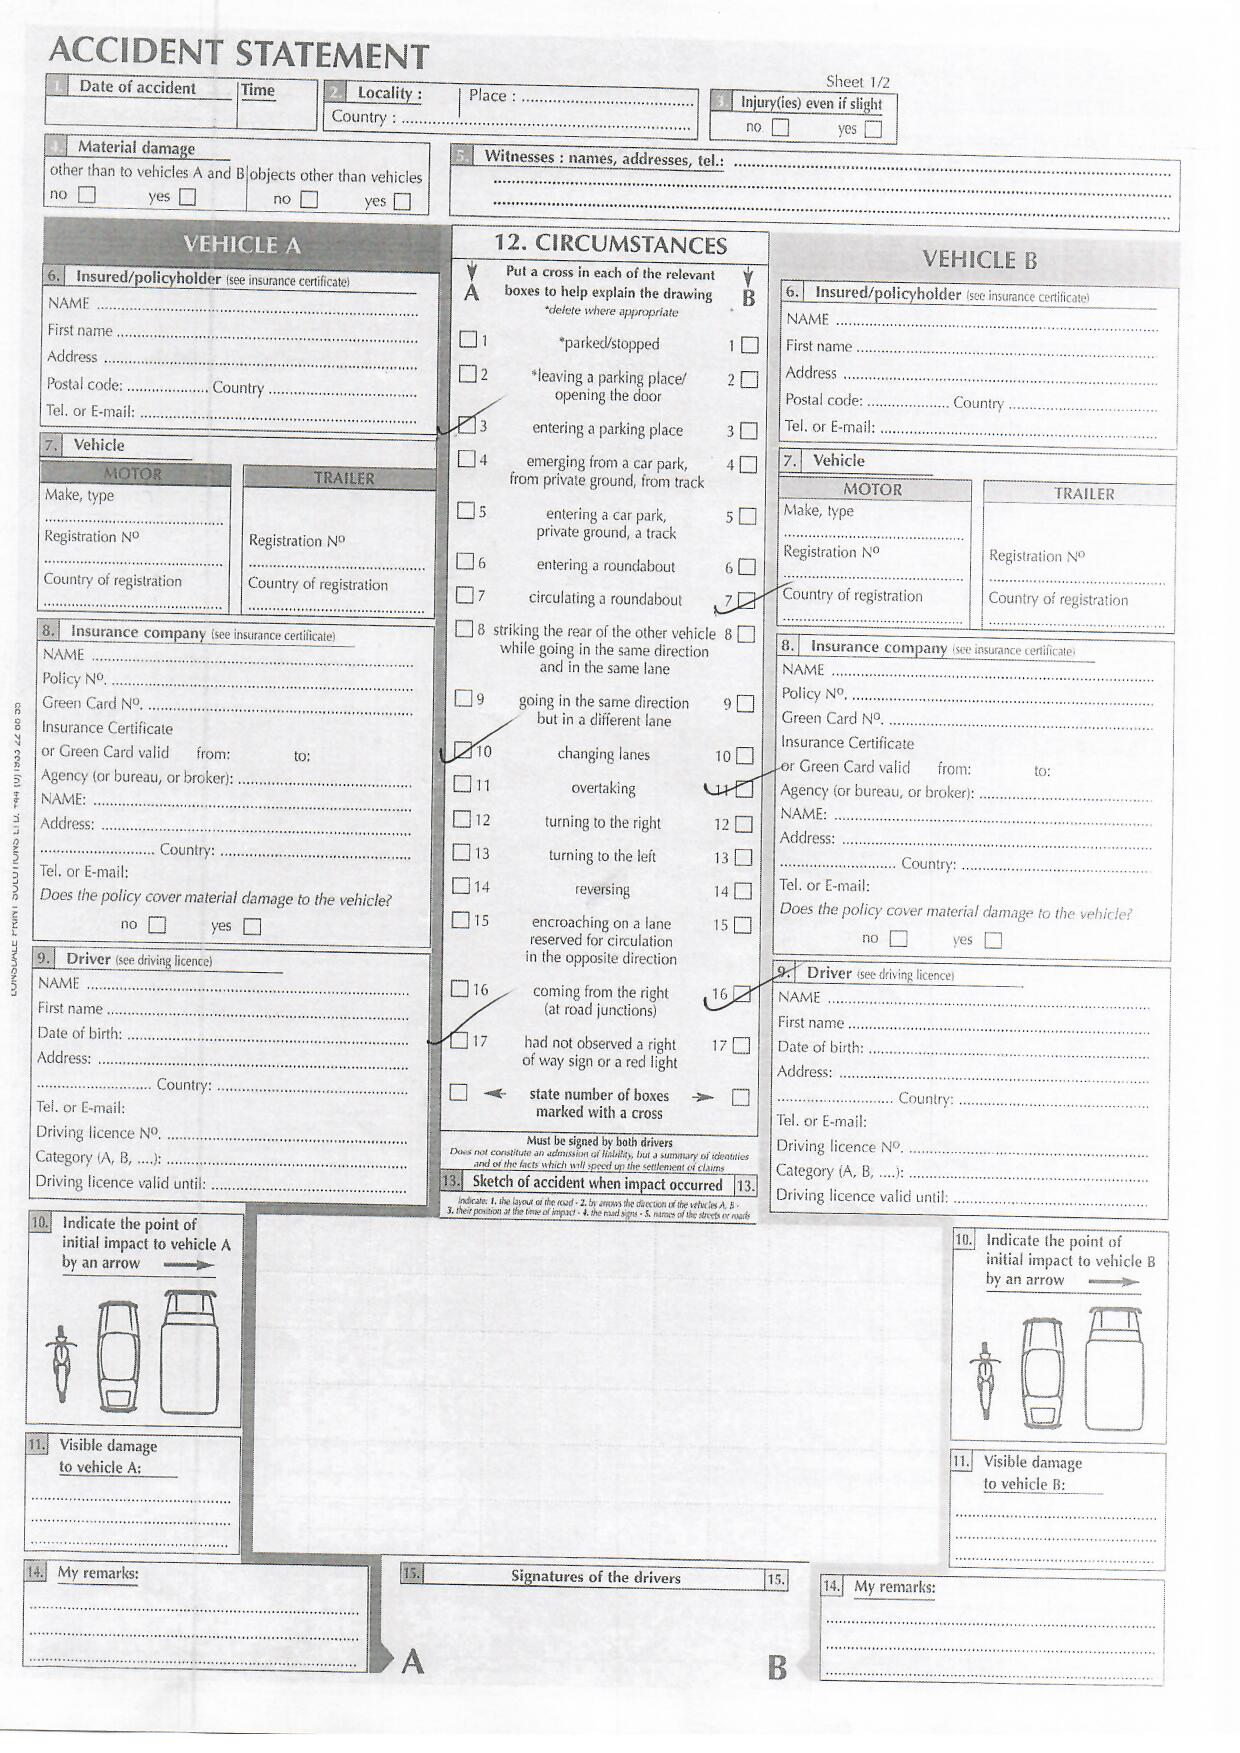a: (727, 981, 756, 1007), (730, 777, 757, 801), (454, 413, 479, 438), (448, 1030, 471, 1055), (450, 738, 474, 761), (734, 591, 758, 612)
